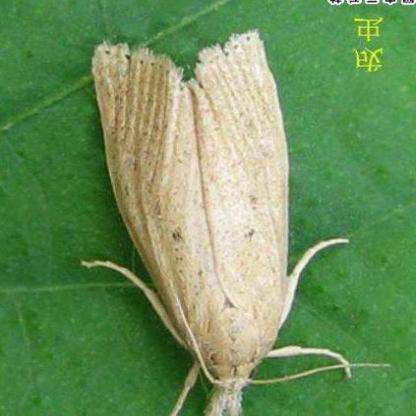stem-borer: (80, 24, 323, 416)
